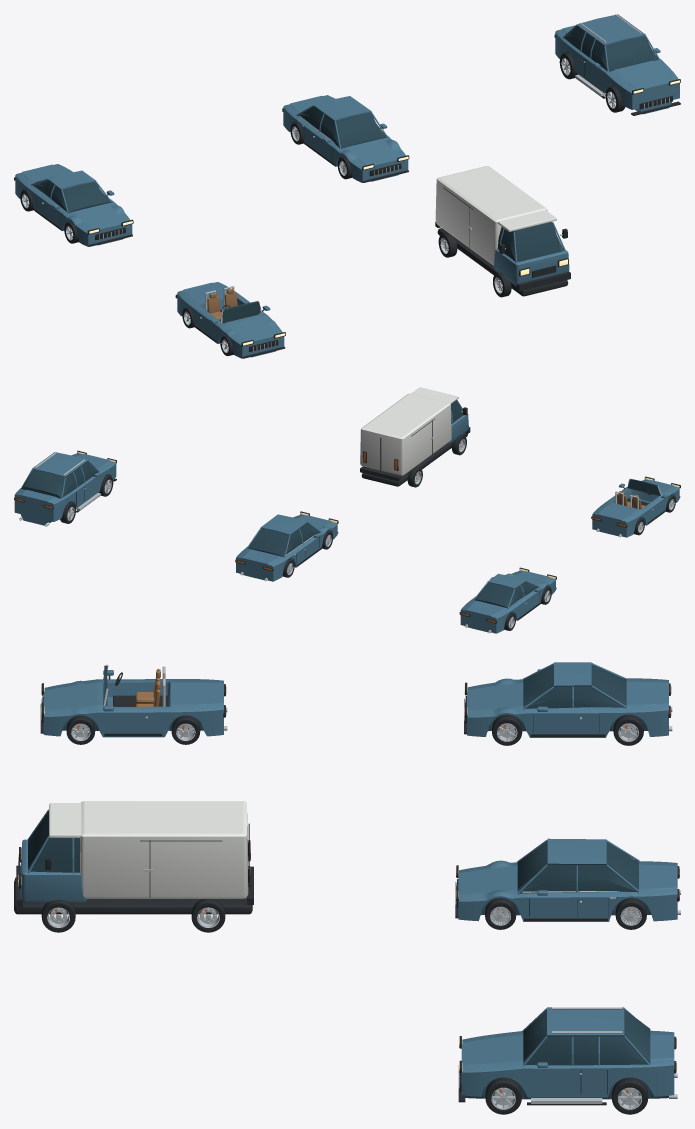
The model's file is cars_collection.glb.
3 views of the same model, one above another, from view 1: azimuth 30°, elevation 25°; view 2: azimuth 150°, elevation 25°; view 3: azimuth 270°, elevation 25° (orthographic). The views are drawn at different scales.
Visible parts, largest first — view 1: 004-panel-van/1, 002-touring-suv/0, 001-executive-sedan/0, 000-grand-touring-coupe/0, 003-open-roadster/0, 002-touring-suv/1, 001-executive-sedan/1, 004-panel-van/0, 004-panel-van/3, 004-panel-van/2, 000-grand-touring-coupe/1, 001-executive-sedan/2 (+5 smaller); view 2: 004-panel-van/1, 002-touring-suv/0, 001-executive-sedan/0, 000-grand-touring-coupe/0, 003-open-roadster/0, 002-touring-suv/1, 001-executive-sedan/1, 004-panel-van/0, 000-grand-touring-coupe/1, 004-panel-van/2; view 3: 004-panel-van/1, 002-touring-suv/0, 001-executive-sedan/0, 000-grand-touring-coupe/0, 003-open-roadster/0, 002-touring-suv/1, 001-executive-sedan/1, 004-panel-van/0, 000-grand-touring-coupe/1, 004-panel-van/2, 004-panel-van/3, 002-touring-suv/5 (+3 smaller).
Part boxes in pixels (x1=…): 004-panel-van/1: x1=435, y1=166, x2=556, y2=265; 002-touring-suv/0: x1=555, y1=14, x2=679, y2=114; 001-executive-sedan/0: x1=283, y1=95, x2=408, y2=182; 000-grand-touring-coupe/0: x1=15, y1=164, x2=132, y2=246; 003-open-roadster/0: x1=177, y1=282, x2=284, y2=358; 002-touring-suv/1: x1=564, y1=25, x2=658, y2=71; 001-executive-sedan/1: x1=298, y1=106, x2=386, y2=148; 004-panel-van/0: x1=435, y1=187, x2=570, y2=296; 004-panel-van/3: x1=497, y1=222, x2=563, y2=261; 004-panel-van/2: x1=493, y1=222, x2=569, y2=284; 000-grand-touring-coupe/1: x1=33, y1=177, x2=110, y2=212; 001-executive-sedan/2: x1=282, y1=108, x2=409, y2=182; 004-panel-van/1: x1=360, y1=387, x2=458, y2=475; 002-touring-suv/0: x1=14, y1=452, x2=116, y2=525; 001-executive-sedan/0: x1=236, y1=514, x2=337, y2=581; 000-grand-touring-coupe/0: x1=460, y1=570, x2=555, y2=633; 003-open-roadster/0: x1=592, y1=479, x2=679, y2=537; 002-touring-suv/1: x1=21, y1=461, x2=98, y2=498; 001-executive-sedan/1: x1=248, y1=522, x2=319, y2=556; 004-panel-van/0: x1=360, y1=407, x2=470, y2=486; 000-grand-touring-coupe/1: x1=474, y1=581, x2=538, y2=608; 004-panel-van/2: x1=448, y1=400, x2=468, y2=443; 004-panel-van/1: x1=49, y1=801, x2=248, y2=898; 002-touring-suv/0: x1=461, y1=1007, x2=674, y2=1099; 001-executive-sedan/0: x1=458, y1=838, x2=677, y2=921; 000-grand-touring-coupe/0: x1=467, y1=662, x2=668, y2=737; 003-open-roadster/0: x1=43, y1=670, x2=223, y2=737; 002-touring-suv/1: x1=523, y1=1010, x2=650, y2=1065; 001-executive-sedan/1: x1=517, y1=841, x2=638, y2=893; 004-panel-van/0: x1=14, y1=823, x2=253, y2=914; 000-grand-touring-coupe/1: x1=523, y1=664, x2=626, y2=708; 004-panel-van/2: x1=20, y1=809, x2=87, y2=902; 004-panel-van/3: x1=28, y1=811, x2=80, y2=872; 002-touring-suv/5: x1=458, y1=1007, x2=677, y2=1103.
Size of the model in its own units: 22.28 by 2.4 by 15.37.
